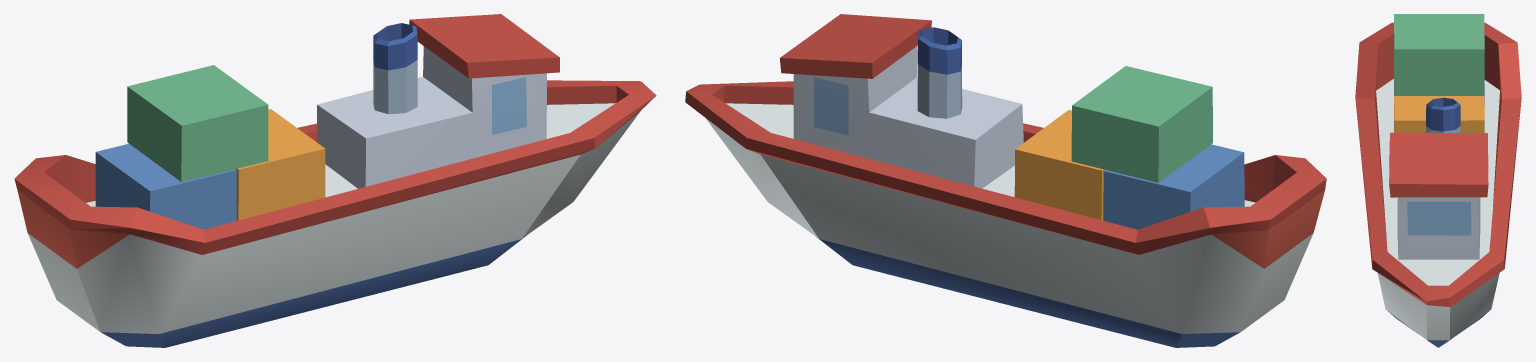
Rendered from RW_HG_Vehicle_Ship.001.fbx.
3 renders of one model, left to right at view 1: azimuth 30°, elevation 25°; view 2: azimuth 150°, elevation 25°; view 3: azimuth 270°, elevation 25°, orthographic. The views are drawn at different scales.
Visible parts, largest first — view 1: RW_HG_Vehicle_Ship.001; view 2: RW_HG_Vehicle_Ship.001; view 3: RW_HG_Vehicle_Ship.001.
Boxes of the visible parts, x1,y1,x2,y2 form: RW_HG_Vehicle_Ship.001: (14,14,656,347); RW_HG_Vehicle_Ship.001: (685,14,1326,347); RW_HG_Vehicle_Ship.001: (1355,14,1521,347).
Bounding box in the file's own units: 3.7 × 1.35 × 1.06.
